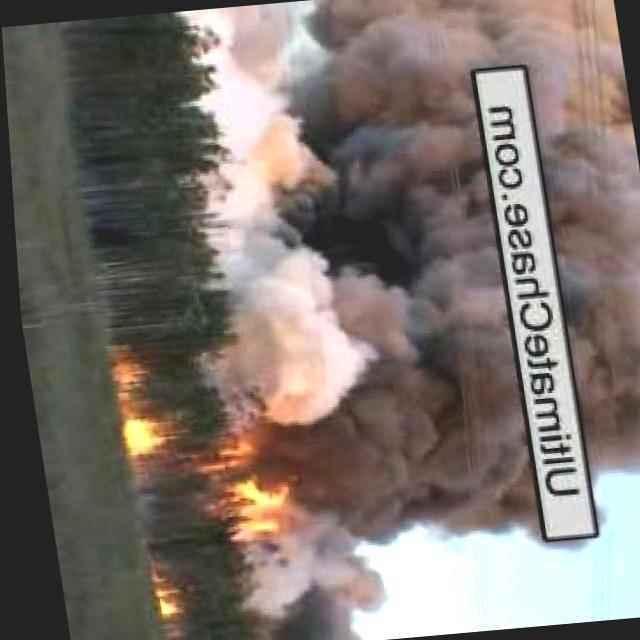helmet: (210, 444, 299, 546), (141, 569, 184, 628), (113, 414, 166, 455), (103, 361, 141, 392)
no_helmet: (157, 0, 542, 575), (516, 0, 640, 479)
